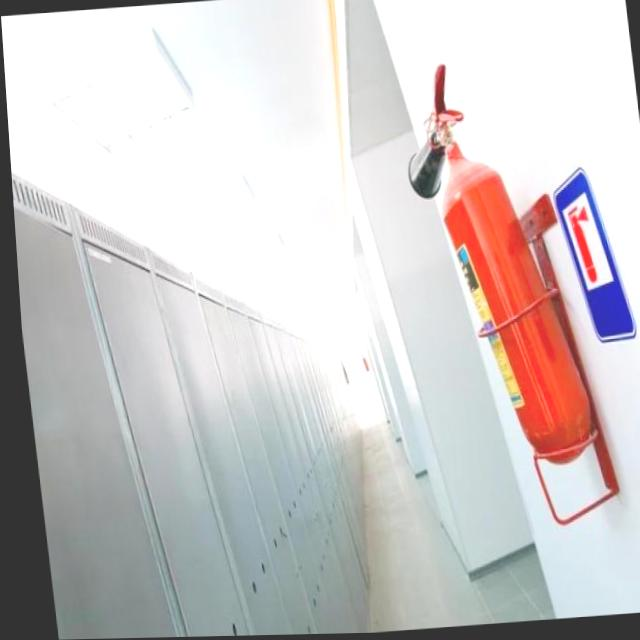FireExtinguisher: (389, 50, 597, 475)
